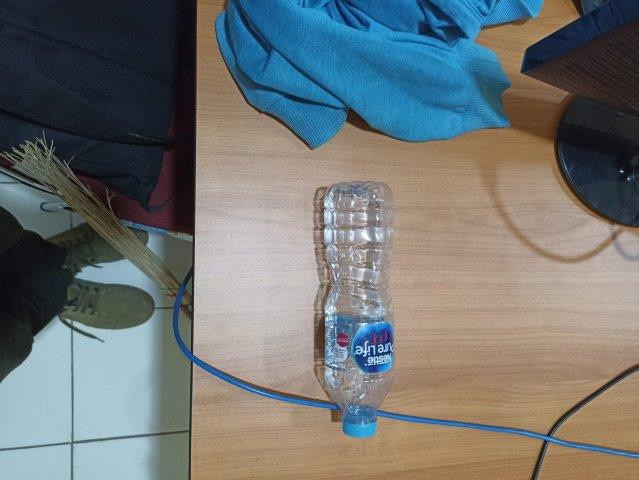botolplastik: (325, 182, 396, 436)
